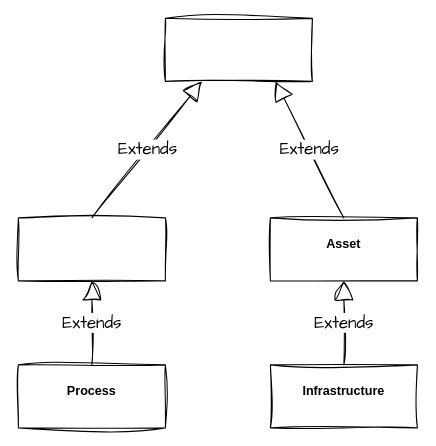
Image size: 436x446. Some labels were removed from this diagram. Here are the shapes that lost their labels. From the top down, the centre of each, then its label:
At (238,49): "Referenceable".
At (91,249): "DataSet".
